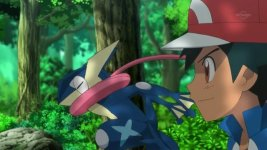greninja: (57, 38, 200, 150)
